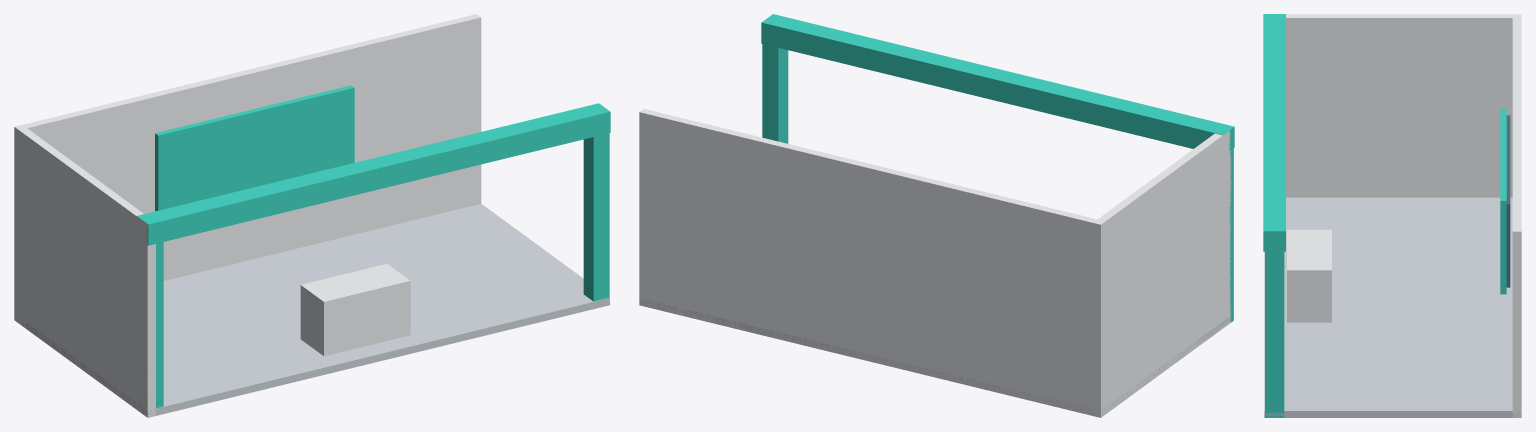
The picture shows the model from 3 angles, left to right: view 1: azimuth 30°, elevation 25°; view 2: azimuth 150°, elevation 25°; view 3: azimuth 270°, elevation 25°; orthographic projection. The views are drawn at different scales.
Visible parts, largest first — view 1: Exhibition Booth Concept; view 2: Exhibition Booth Concept; view 3: Exhibition Booth Concept.
Part boxes in pixels (left/top/right/bottom): Exhibition Booth Concept: left=14, top=14, right=610, bottom=417; Exhibition Booth Concept: left=639, top=14, right=1234, bottom=417; Exhibition Booth Concept: left=1263, top=14, right=1521, bottom=417.
Size of the model in its own units: 8 by 3.2 by 4.02.
